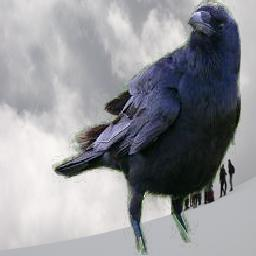Crow: (53, 0, 242, 255)
